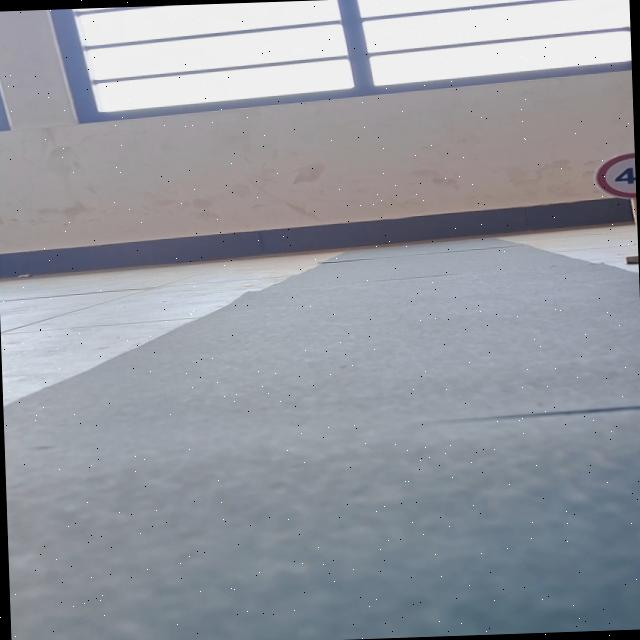Speed40: (592, 152, 636, 200)
